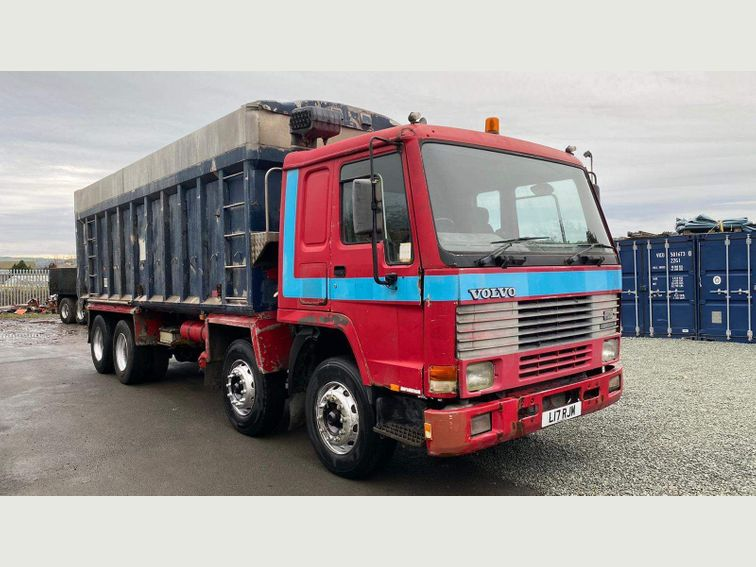Semi: (74, 98, 623, 476)
